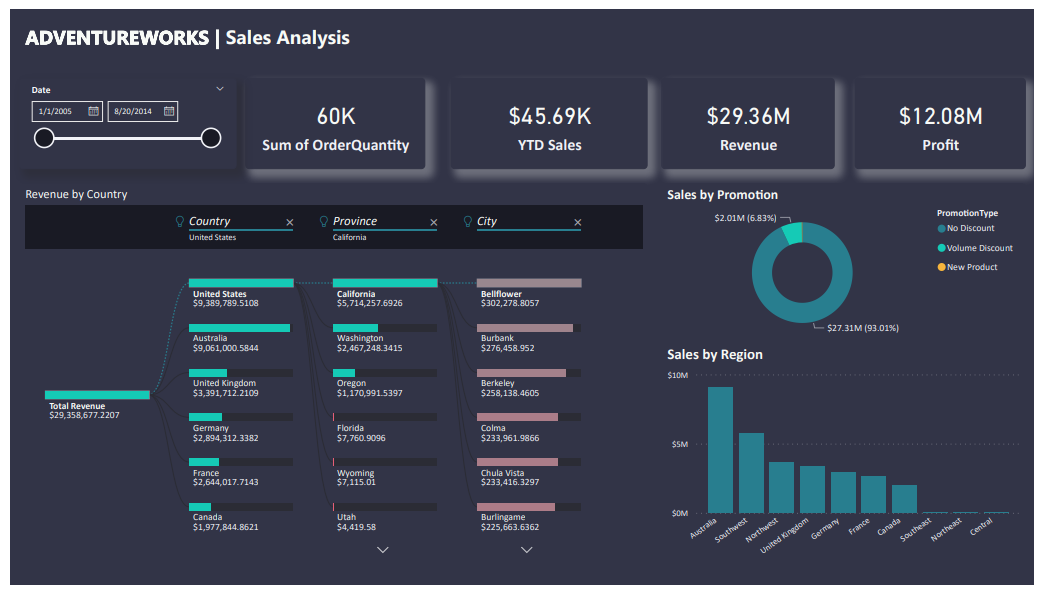

Layout of this report page (visuals, bound fields, positions):
{"tool":"powerbi","page":{"name":"Sales Analysis","canvas":[1280,720],"ordinal":1},"visuals":[{"type":"card","fields":{"Values":["DAX Measures.Profit"]},"box":[1055.7,85.7,214.3,114.3],"z":0},{"type":"card","fields":{"Values":["DAX Measures.Revenue"]},"box":[814.3,85.7,217.1,114.3],"z":1000},{"type":"card","fields":{"Values":["Sum(Sales.OrderQuantity)"]},"box":[294.3,85.7,224.3,114.3],"z":2000},{"type":"card","fields":{"Values":["DAX Measures.YTD Sales"]},"box":[551.4,85.7,245.7,114.3],"z":3000},{"type":"textbox","box":[11.3,9.9,447.9,63.8],"z":4000},{"type":"slicer","fields":{"Values":["Date.Date"]},"box":[11.4,85.7,271.4,114.3],"z":5000},{"type":"decompositionTreeVisual","title":"Revenue by Country","fields":{"Analyze":["DAX Measures.Total Revenue"],"ExplainBy":["Geography.Country","Geography.ProvinceName","Geography.City"]},"box":[11.3,218.3,785.2,484.7],"z":6000},{"type":"clusteredColumnChart","title":"Sales by Region","fields":{"Category":["SalesTerritory.Region"],"Y":["Sum(Sales.Sales)"]},"box":[813.5,416.7,456.4,286.3],"z":7000},{"type":"donutChart","title":"Sales by Promotion","fields":{"Category":["Promotion.PromotionType"],"Y":["Sum(Sales.Sales)"]},"box":[813.5,218.3,456.4,198.4],"z":8000}]}

Visuals, with their boxes in screenshot pixels (x1, y1, x2, y2), scaled from the page's 1280x720 canvas onto the 1051x597 screenshot:
card - DAX Measures.Profit: box(867, 71, 1043, 166)
card - DAX Measures.Revenue: box(669, 71, 847, 166)
card - Sum(Sales.OrderQuantity): box(242, 71, 426, 166)
card - DAX Measures.YTD Sales: box(453, 71, 654, 166)
textbox: box(9, 8, 377, 61)
slicer - Date.Date: box(9, 71, 232, 166)
"Revenue by Country" decompositionTreeVisual: box(9, 181, 654, 583)
"Sales by Region" clusteredColumnChart: box(668, 346, 1043, 583)
"Sales by Promotion" donutChart: box(668, 181, 1043, 346)
